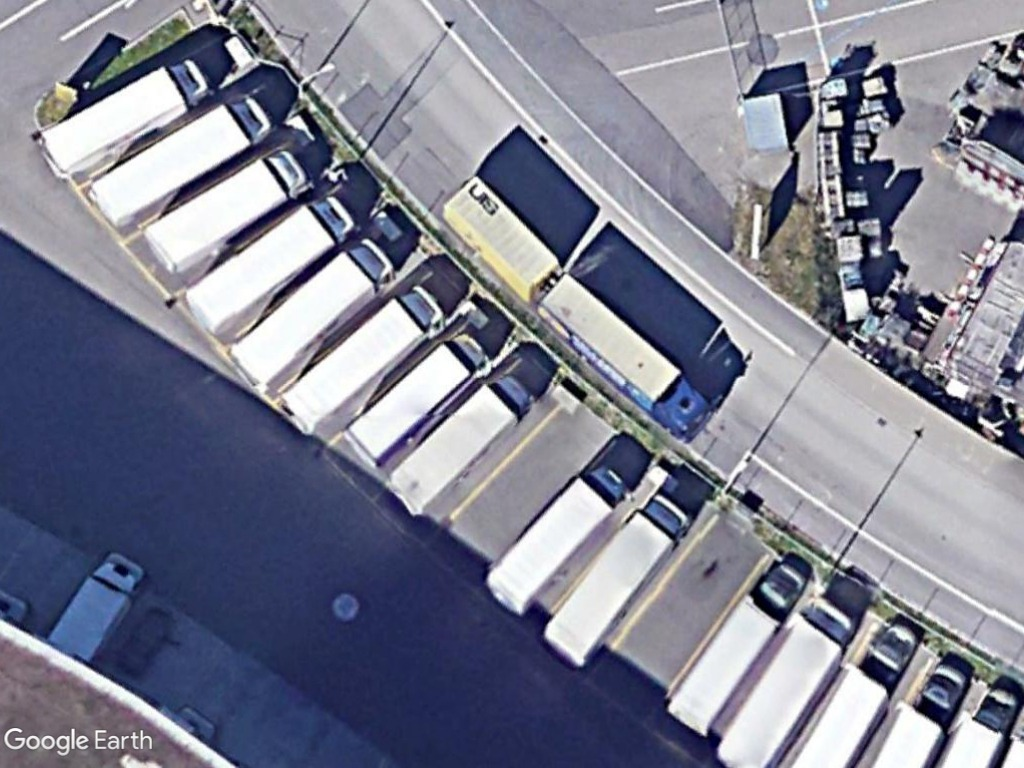longvehicle: (442, 173, 564, 307)
truck: (534, 271, 716, 444), (657, 559, 817, 743), (220, 236, 401, 398), (275, 274, 447, 439), (80, 87, 275, 230), (542, 487, 691, 670), (701, 600, 858, 768), (178, 192, 354, 339), (35, 55, 220, 188), (476, 462, 631, 619), (137, 143, 314, 278), (334, 329, 496, 471), (382, 367, 534, 516), (41, 550, 147, 663)
